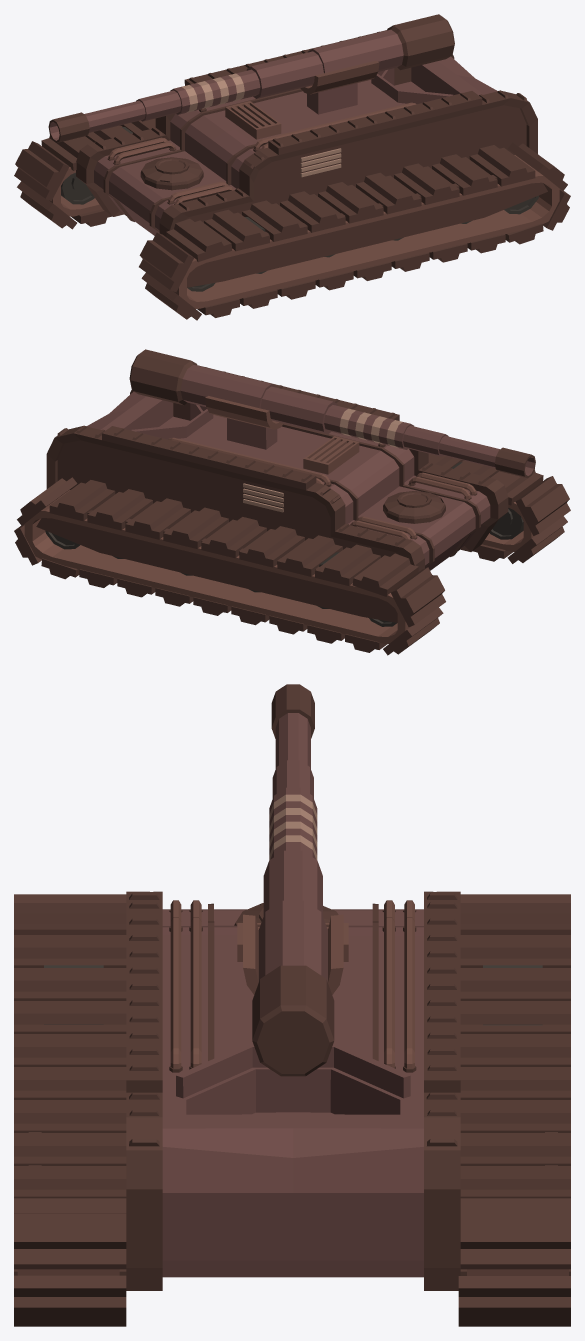
Rendered from tank-4.glb.
3 views of the same model, one above another, from view 1: azimuth 30°, elevation 25°; view 2: azimuth 150°, elevation 25°; view 3: azimuth 270°, elevation 25° (orthographic). The views are drawn at different scales.
Visible parts, largest first — view 1: Tank_body.001_Cube.001, TrackMesh.L_Cube.051, Tank_Gun_Cylinder.002, TrackMesh.R_Cube.000, Tank_Turret_Cylinder.001; view 2: Tank_body.001_Cube.001, TrackMesh.R_Cube.000, Tank_Gun_Cylinder.002, TrackMesh.L_Cube.051, Tank_Turret_Cylinder.001; view 3: Tank_body.001_Cube.001, TrackMesh.L_Cube.051, TrackMesh.R_Cube.000, Tank_Gun_Cylinder.002, Tank_Turret_Cylinder.001.
Boxes of the visible parts, x1=… form: Tank_body.001_Cube.001: x1=49, y1=30, x2=559, y2=308; TrackMesh.L_Cube.051: x1=139, y1=142, x2=570, y2=320; Tank_Gun_Cylinder.002: x1=48, y1=14, x2=454, y2=142; TrackMesh.R_Cube.000: x1=14, y1=118, x2=155, y2=229; Tank_Turret_Cylinder.001: x1=300, y1=60, x2=379, y2=114; Tank_body.001_Cube.001: x1=24, y1=365, x2=535, y2=643; TrackMesh.R_Cube.000: x1=14, y1=477, x2=445, y2=655; Tank_Gun_Cylinder.002: x1=129, y1=349, x2=535, y2=478; TrackMesh.L_Cube.051: x1=428, y1=453, x2=570, y2=563; Tank_Turret_Cylinder.001: x1=205, y1=396, x2=283, y2=449; Tank_body.001_Cube.001: x1=17, y1=891, x2=568, y2=1290; TrackMesh.L_Cube.051: x1=14, y1=894, x2=126, y2=1326; TrackMesh.R_Cube.000: x1=458, y1=894, x2=570, y2=1326; Tank_Gun_Cylinder.002: x1=252, y1=684, x2=334, y2=1076; Tank_Turret_Cylinder.001: x1=243, y1=914, x2=343, y2=994.
Size of the model in its own units: 16.16 by 6 by 9.98.
